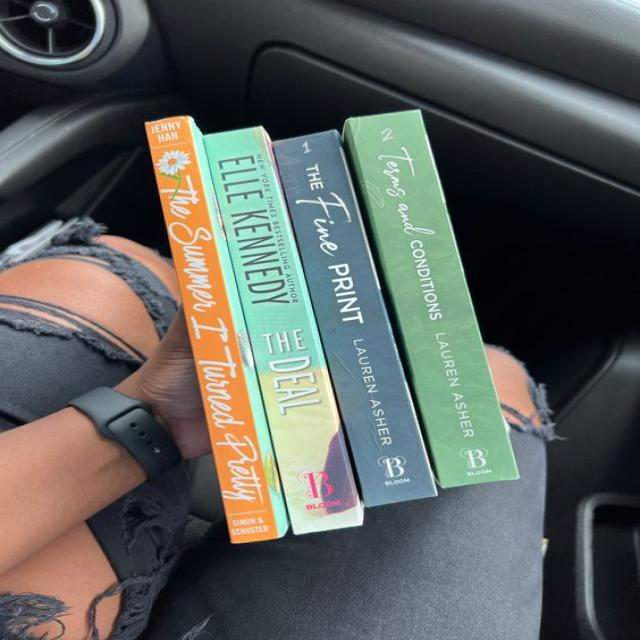book: (343, 111, 517, 488), (204, 128, 361, 534), (145, 117, 288, 542), (275, 131, 436, 506)
